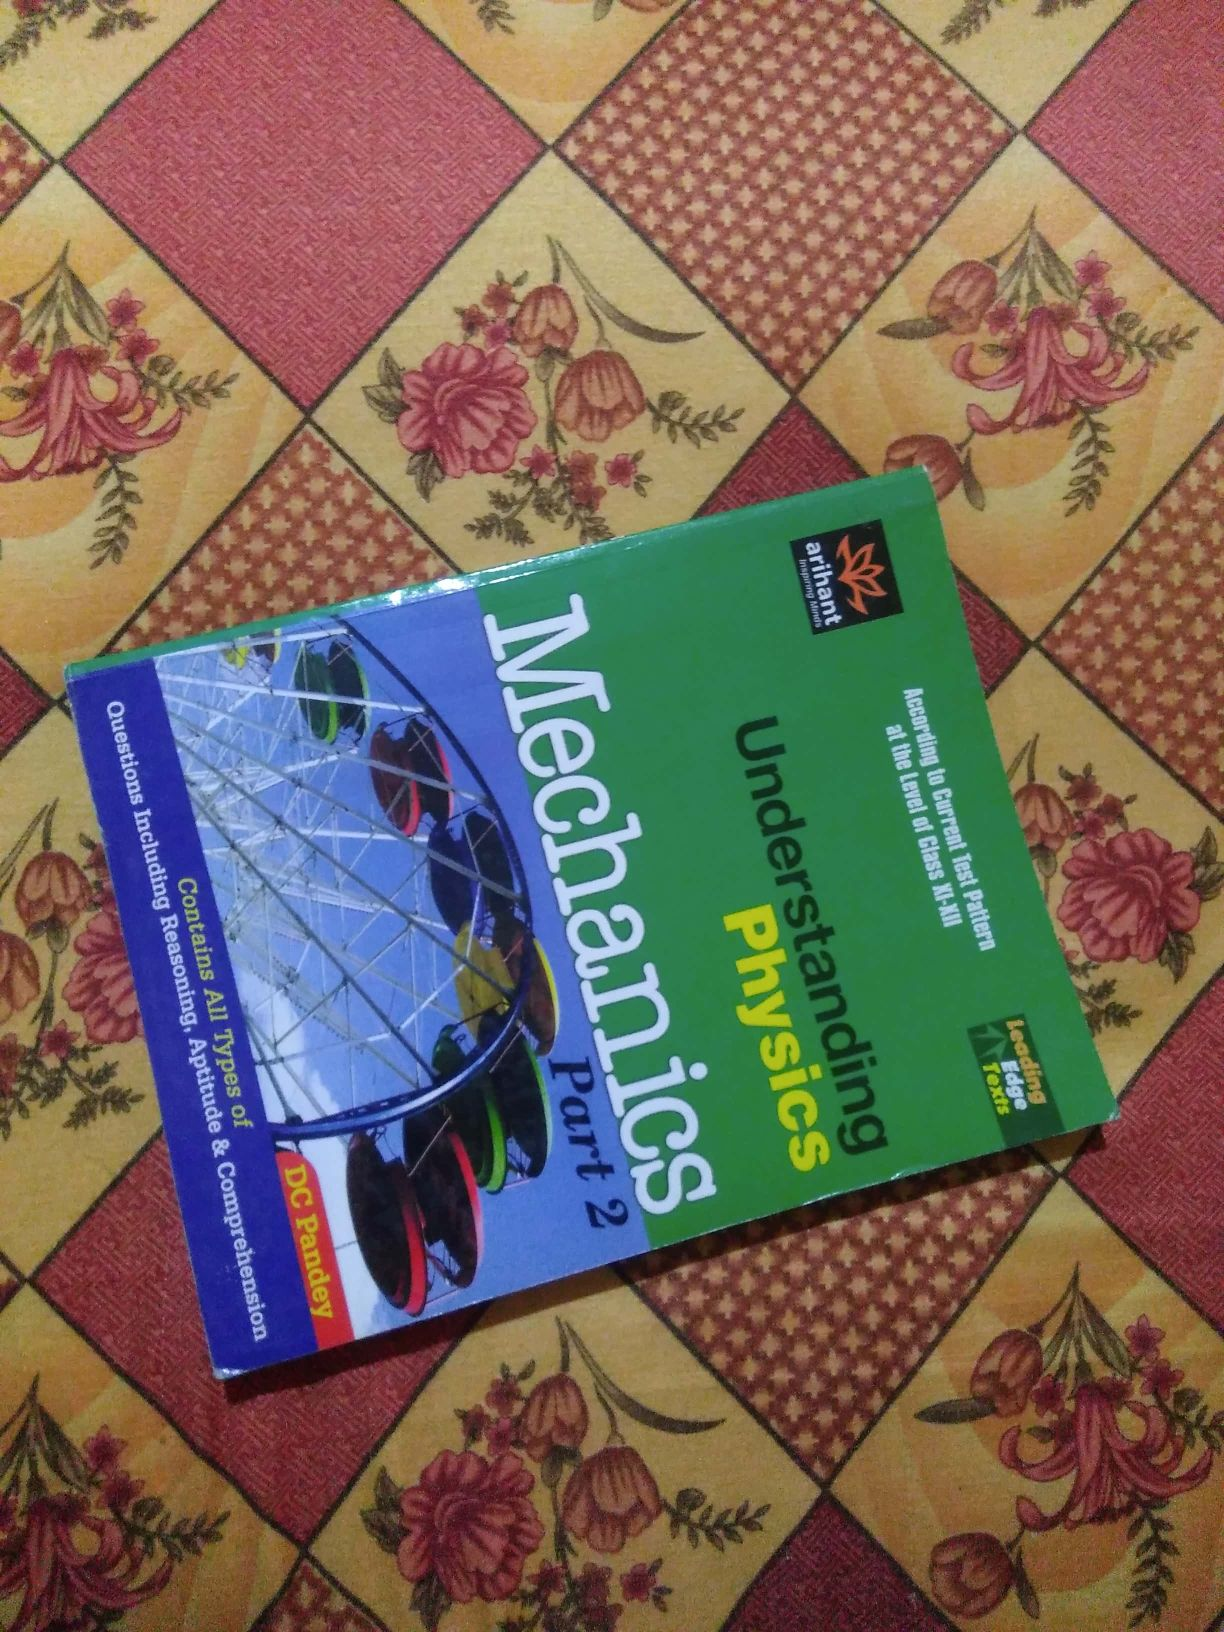mechanics: (76, 493, 1115, 1342)
